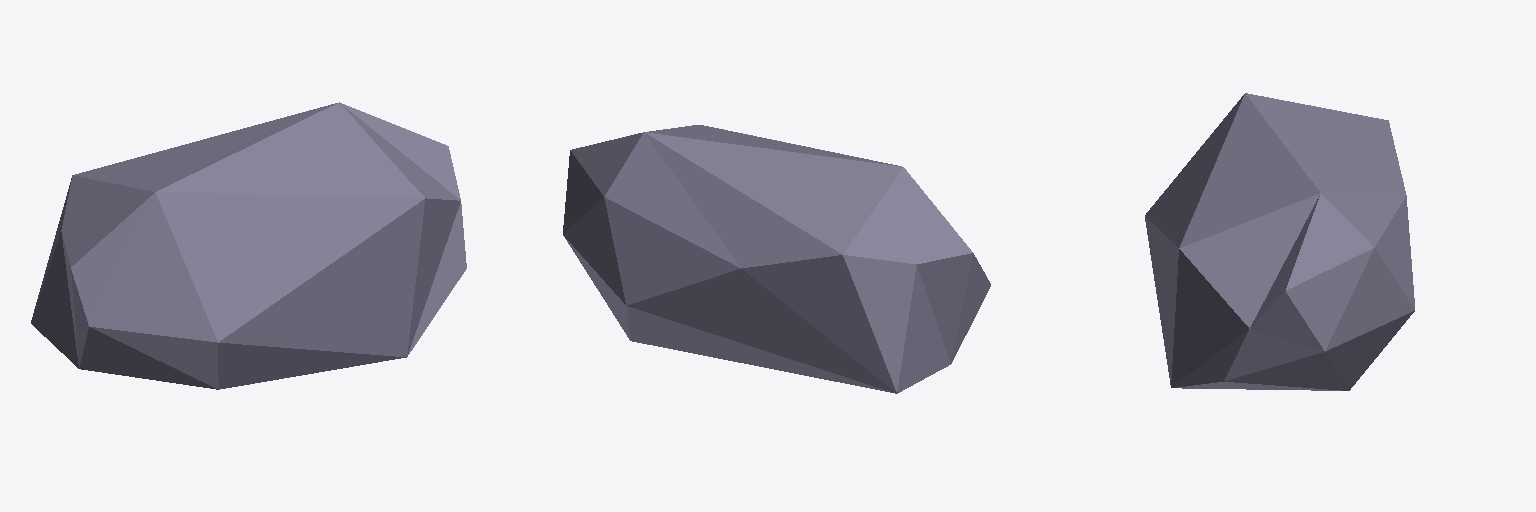
File: stone3A(F32).obj
The picture shows the model from 3 angles: view 1: azimuth 30°, elevation 25°; view 2: azimuth 150°, elevation 25°; view 3: azimuth 270°, elevation 25°; orthographic projection.
Visible parts, largest first — view 1: Icosphere.003; view 2: Icosphere.003; view 3: Icosphere.003.
Boxes of the visible parts, box(x1,y1,x2,y2) form: Icosphere.003: box(31, 102, 466, 389); Icosphere.003: box(563, 125, 990, 393); Icosphere.003: box(1145, 93, 1414, 390).
Bounding box in the file's own units: 2.91 × 1.61 × 1.75.